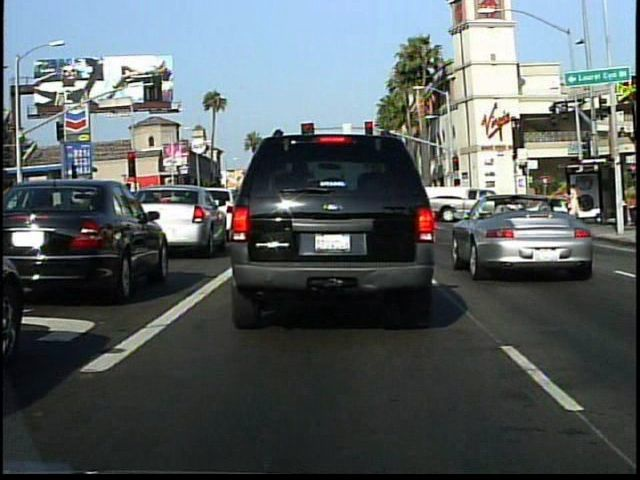person: (563, 179, 585, 225)
